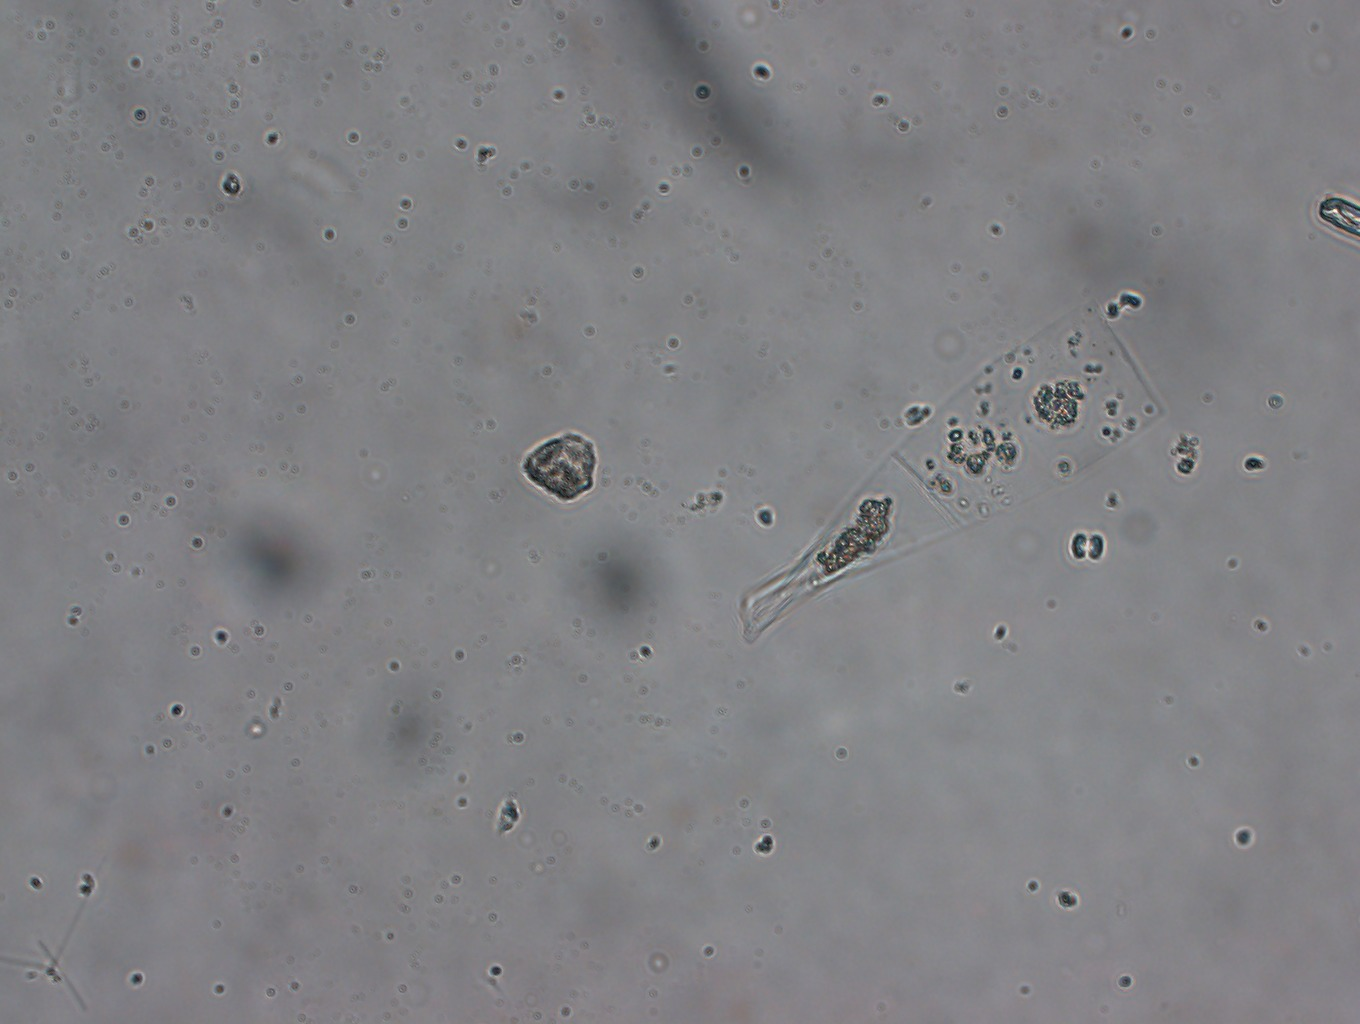helicotheca: (742, 298, 1163, 648)
